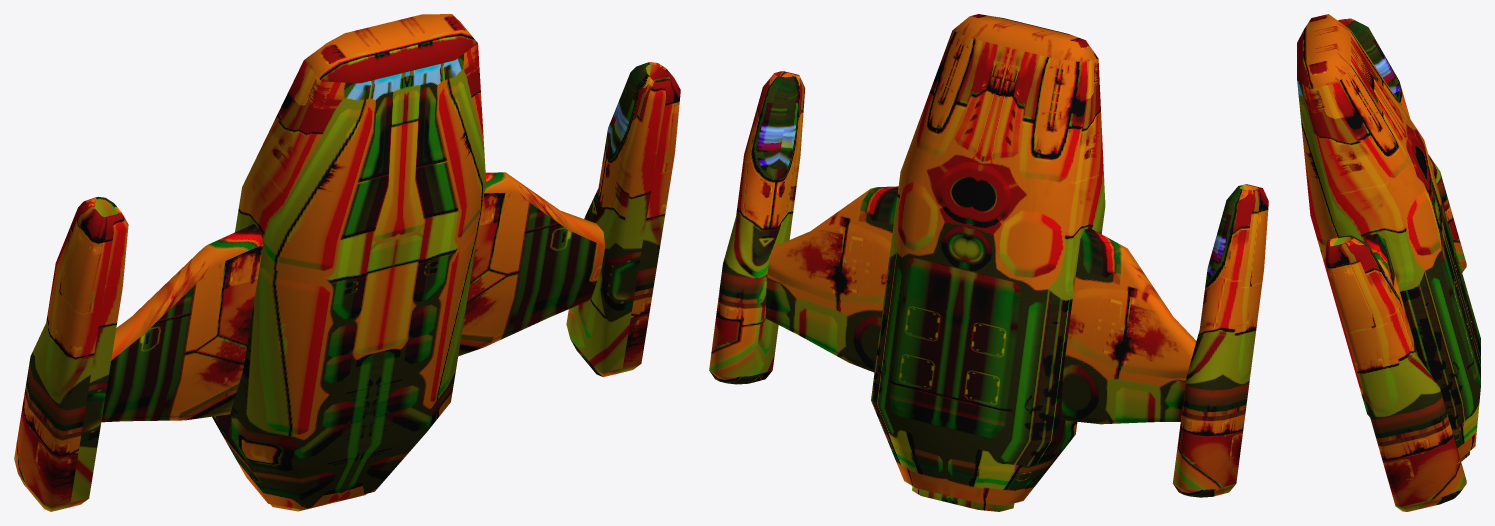
Rendered from player02.fbx.
3 renders of one model, left to right at view 1: azimuth 30°, elevation 25°; view 2: azimuth 150°, elevation 25°; view 3: azimuth 270°, elevation 25°, orthographic. The views are drawn at different scales.
Visible parts, largest first — view 1: Cube.001; view 2: Cube.001; view 3: Cube.001.
Part boxes in pixels (x1,y1,x2,y2): Cube.001: [14, 14, 680, 511]; Cube.001: [709, 14, 1268, 511]; Cube.001: [1297, 14, 1480, 511].
Bounding box in the file's own units: 2888 × 954 × 2382.
1 material, 1 textured.
